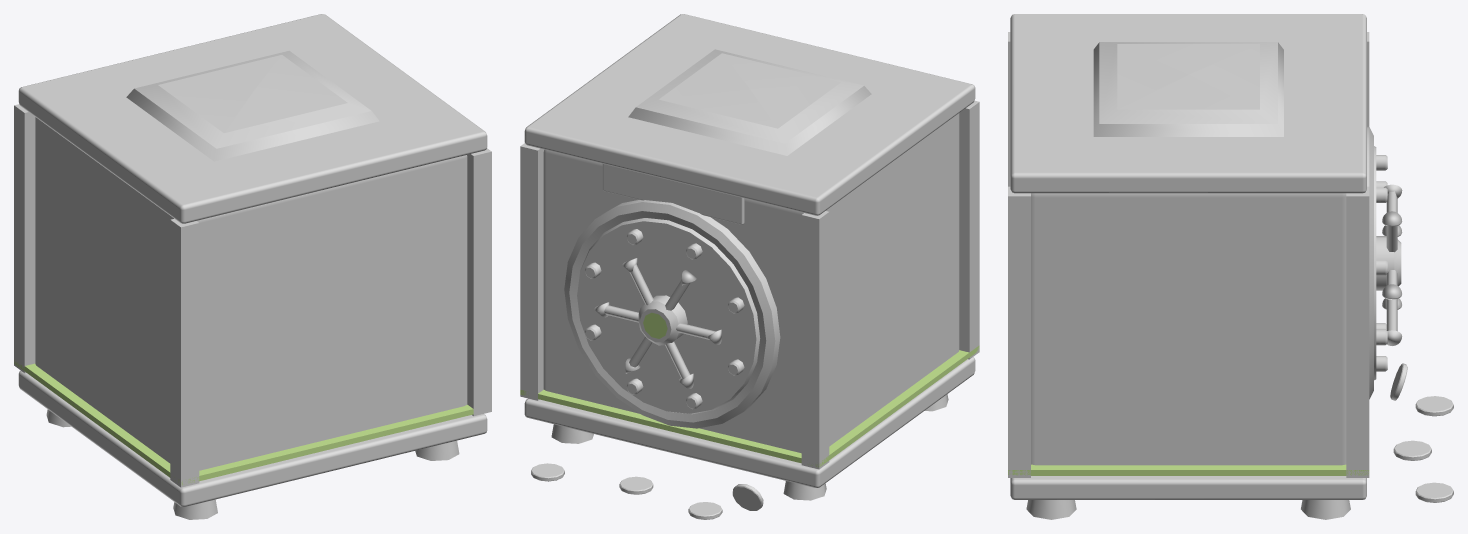
Rendered from VaultMilitary.glb.
The picture shows the model from 3 angles, left to right: view 1: azimuth 30°, elevation 25°; view 2: azimuth 150°, elevation 25°; view 3: azimuth 270°, elevation 25°; orthographic projection. The views are drawn at different scales.
Visible parts, largest first — view 1: Body, Glow; view 2: Body, Glow; view 3: Body, Glow.
Boxes of the visible parts, x1,y1,x2,y2 form: Body: (14, 14, 491, 519); Glow: (14, 360, 473, 485); Body: (520, 14, 979, 519); Glow: (520, 312, 979, 467); Body: (1008, 14, 1453, 519); Glow: (1008, 464, 1369, 475).
Size of the model in its own units: 8.5 by 9.04 by 9.75.
